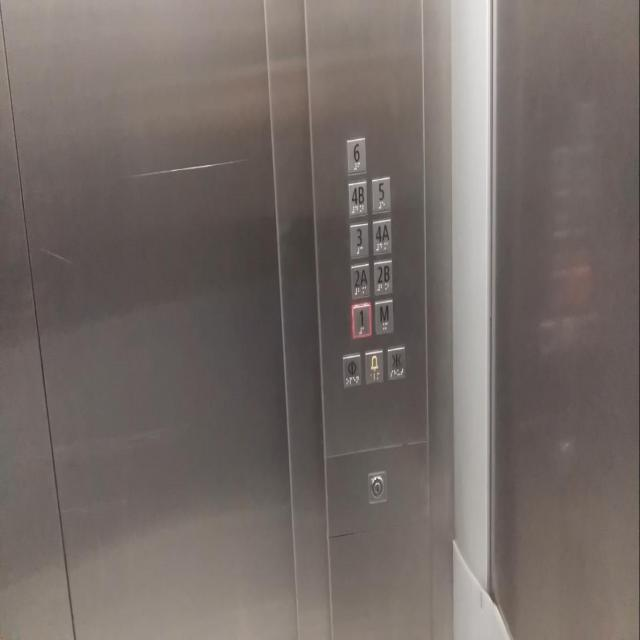1: (350, 301, 373, 339)
2A: (348, 260, 371, 300)
2B: (372, 258, 394, 296)
3: (348, 220, 370, 260)
4A: (370, 217, 392, 256)
4B: (346, 178, 368, 218)
5: (371, 173, 392, 215)
6: (344, 132, 368, 176)
M: (373, 298, 394, 335)
alarm: (363, 346, 384, 386)
close: (386, 343, 407, 382)
keyhole: (366, 468, 388, 506)
open: (341, 350, 362, 389)
